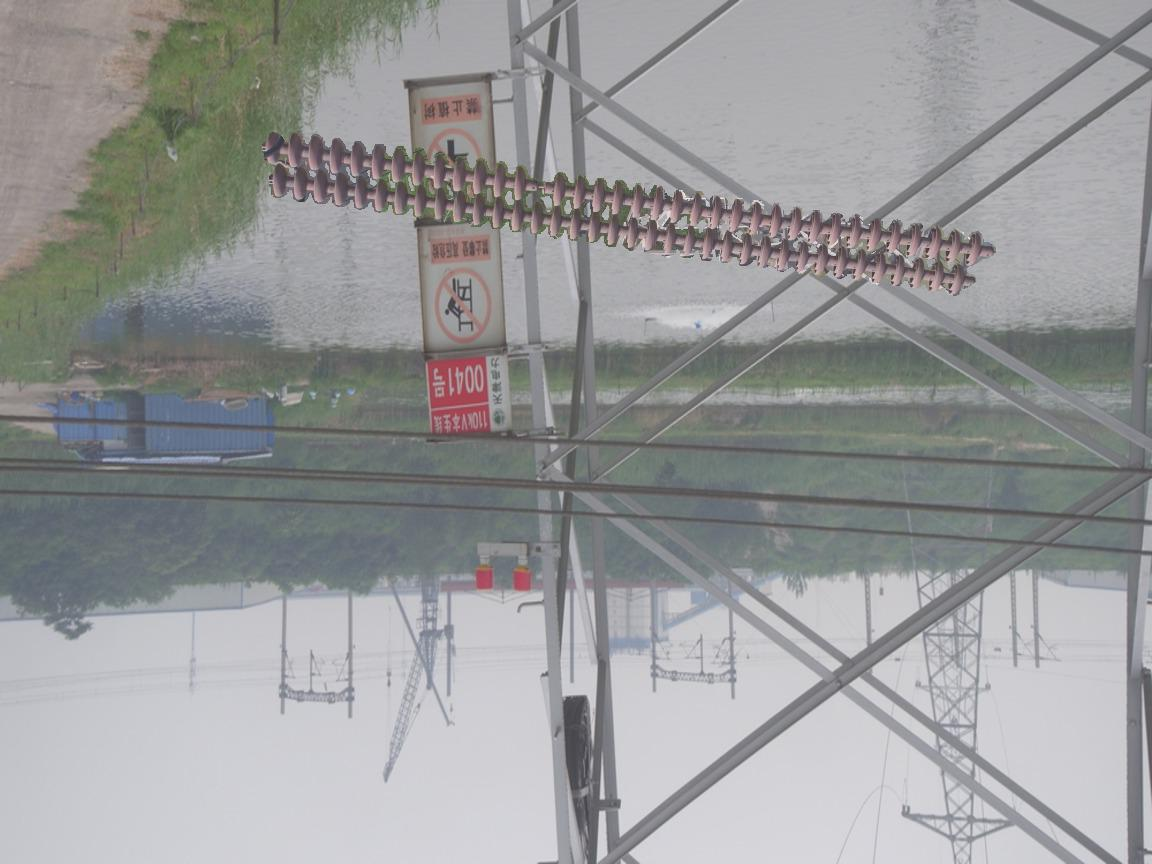insulator: (256, 127, 991, 301)
insulator_stringdrop: (510, 163, 570, 209)
